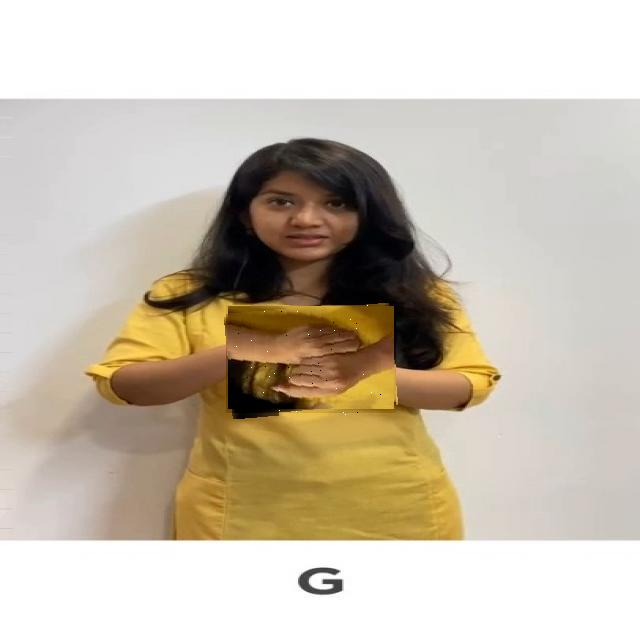G: (226, 306, 396, 416)
